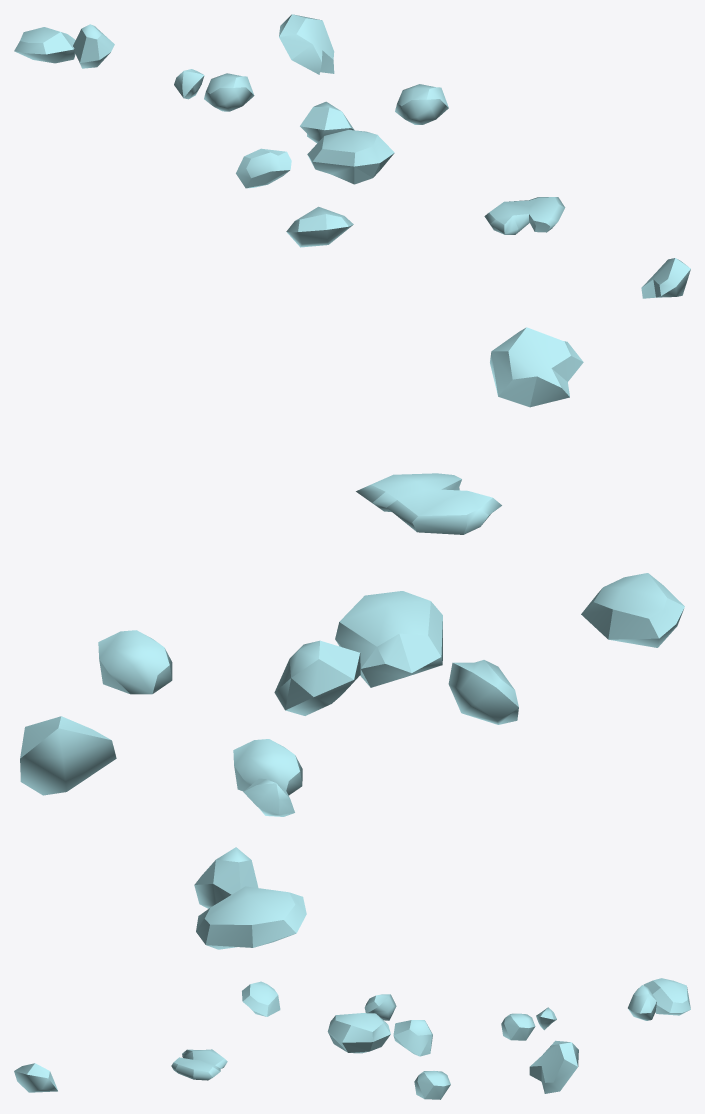
3 renders of one model, top to bottom at view 1: azimuth 30°, elevation 25°; view 2: azimuth 150°, elevation 25°; view 3: azimuth 270°, elevation 25°, orthographic. The views are drawn at different scales.
Parts seen in each view (by area): view 1: Object56; view 2: Object56; view 3: Object56.
Part boxes in pixels (<box>): Object56: <box>14,14,690,298</box>; Object56: <box>20,327,684,949</box>; Object56: <box>14,978,690,1099</box>.
Bounding box in the file's own units: 144 × 26.61 × 385.
